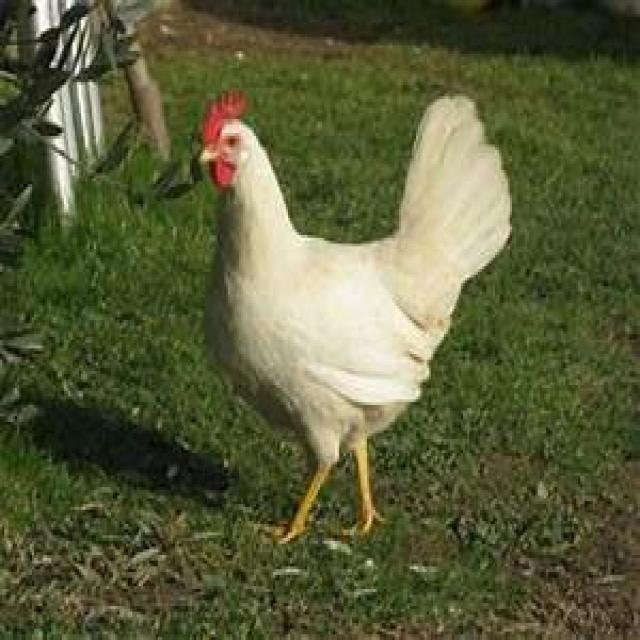hen: (198, 91, 510, 544)
